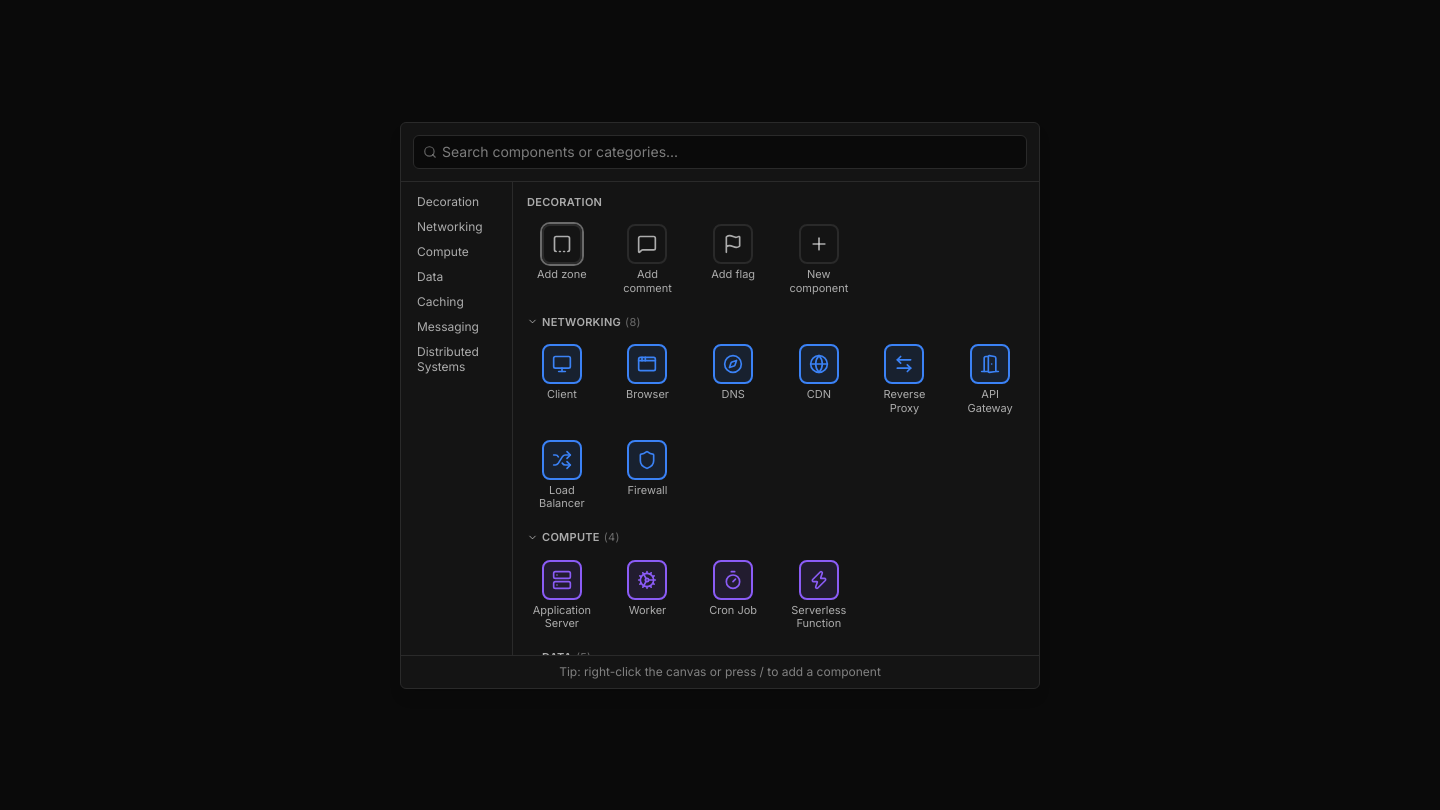
Test: ComponentPicker › typing in the search box filters to matching components only
This screenshot has width=1440, height=810.
Type "sql" into the dropdown with placeholder "Search components or categories..." at coordinates (720, 152), box [413,134,1027,168]
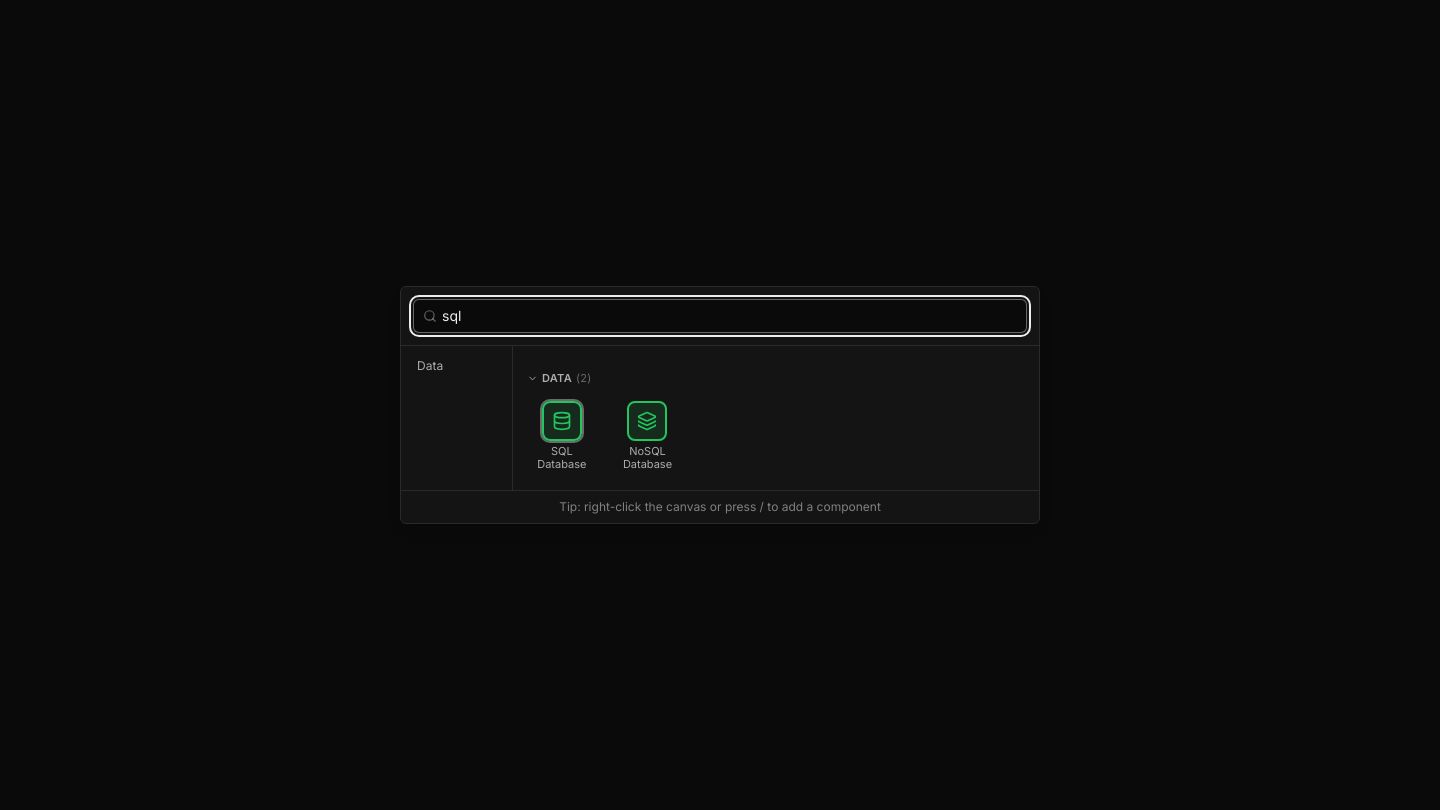
Expected: the text "SQL Database" is shown, [537,444,586,471]
Expected: the option "Client" is gone
